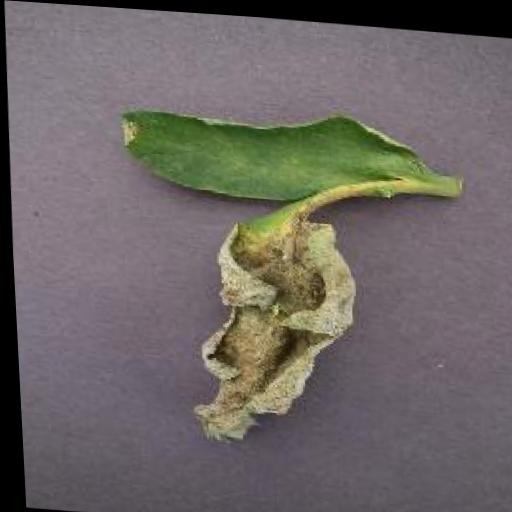Late Blight: (176, 200, 364, 454)
